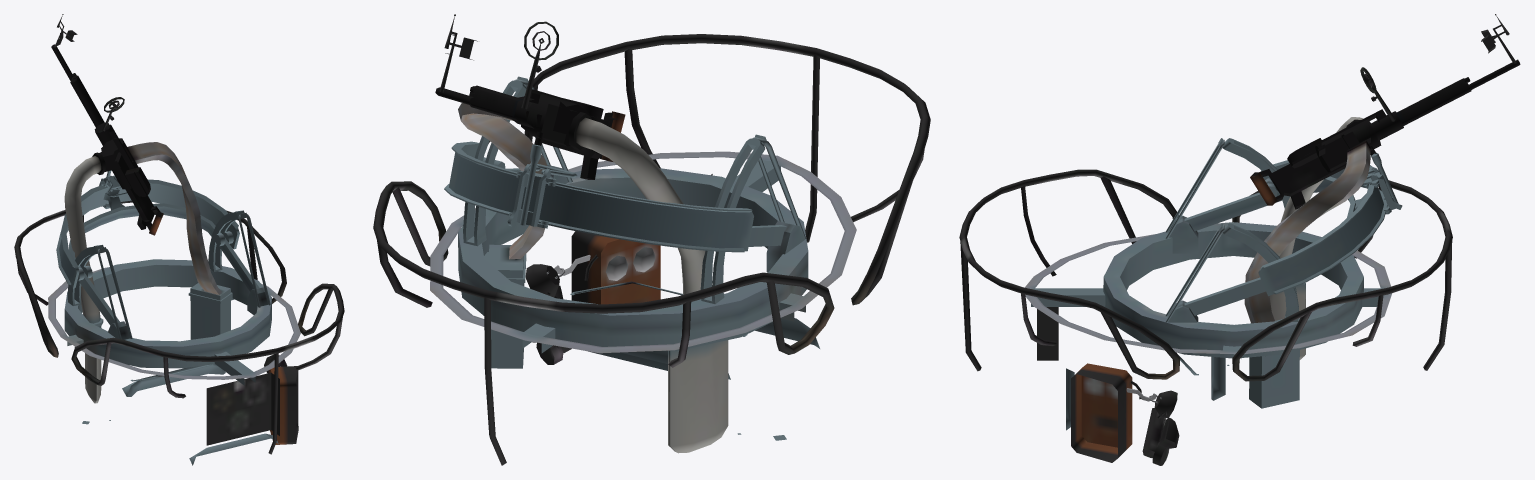
File: machine gun correct.glb
The picture shows the model from 3 angles, left to right: view 1: azimuth 30°, elevation 25°; view 2: azimuth 150°, elevation 25°; view 3: azimuth 270°, elevation 25°; orthographic projection. The views are drawn at different scales.
Visible parts, largest first — view 1: hull_0, machine gun; view 2: hull_0, machine gun; view 3: hull_0, machine gun.
Boxes of the visible parts, x1,y1,x2,y2 form: hull_0: [14, 142, 344, 465]; machine gun: [51, 14, 163, 235]; hull_0: [373, 34, 930, 465]; machine gun: [435, 14, 625, 228]; hull_0: [959, 117, 1452, 465]; machine gun: [1250, 14, 1520, 214].
Size of the model in its own units: 1.37 by 1.75 by 2.21.
1 material, 1 textured.
